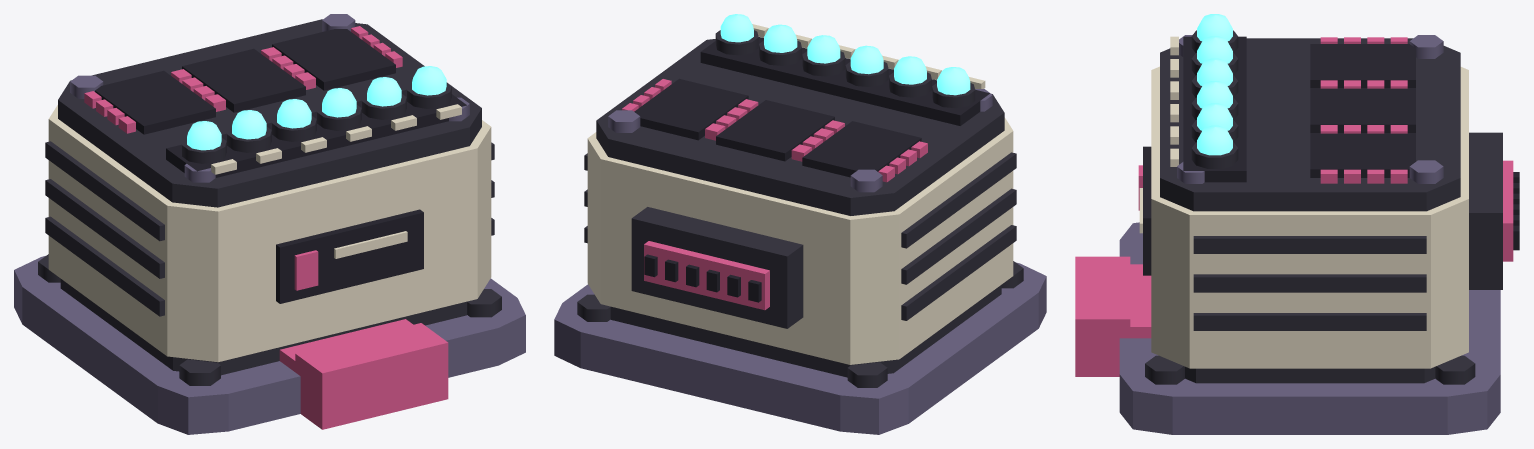
File: data_buffer.glb
3 views of the same model, side by side, from view 1: azimuth 30°, elevation 25°; view 2: azimuth 150°, elevation 25°; view 3: azimuth 270°, elevation 25° (orthographic). The views are drawn at different scales.
Visible parts, largest first — view 1: buffer_CreamHull, buffer_Graphite, buffer_DecalDark, buffer_PurpleGrey, buffer_Pink, led_1, led_2, led_3, led_4, led_5, led_6; view 2: buffer_Graphite, buffer_CreamHull, buffer_PurpleGrey, buffer_DecalDark, buffer_Pink, led_1, led_4, led_3, led_6, led_5, led_2; view 3: buffer_Graphite, buffer_CreamHull, buffer_PurpleGrey, buffer_DecalDark, buffer_Pink, led_6, led_1, led_2, led_4, led_5, led_3.
Boxes of the visible parts, <box> form: buffer_CreamHull: <box>48,104,491,362</box>; buffer_Graphite: <box>38,19,501,385</box>; buffer_DecalDark: <box>95,29,466,303</box>; buffer_PurpleGrey: <box>14,14,525,434</box>; buffer_Pink: <box>84,26,448,429</box>; led_1: <box>187,121,221,150</box>; led_2: <box>232,110,266,139</box>; led_3: <box>277,99,311,128</box>; led_4: <box>322,88,356,117</box>; led_5: <box>367,77,401,106</box>; led_6: <box>412,66,446,95</box>; buffer_Graphite: <box>577,30,1023,387</box>; buffer_CreamHull: <box>587,24,1013,364</box>; buffer_PurpleGrey: <box>554,89,1046,434</box>; buffer_DecalDark: <box>634,37,989,302</box>; buffer_Pink: <box>622,79,927,310</box>; led_1: <box>937,67,970,95</box>; led_4: <box>807,35,840,63</box>; led_3: <box>850,45,883,74</box>; led_6: <box>720,14,753,42</box>; led_5: <box>764,24,797,52</box>; led_2: <box>894,56,926,84</box>; buffer_Graphite: <box>1145,30,1502,384</box>; buffer_CreamHull: <box>1139,36,1468,368</box>; buffer_PurpleGrey: <box>1119,35,1500,434</box>; buffer_DecalDark: <box>1143,36,1519,275</box>; buffer_Pink: <box>1075,37,1513,376</box>; led_6: <box>1197,125,1232,155</box>; led_1: <box>1197,14,1232,41</box>; led_2: <box>1197,36,1232,63</box>; led_4: <box>1197,81,1232,108</box>; led_5: <box>1197,103,1232,130</box>; led_3: <box>1197,58,1232,85</box>.
Size of the model in its own units: 0.2 by 0.143 by 0.21.
